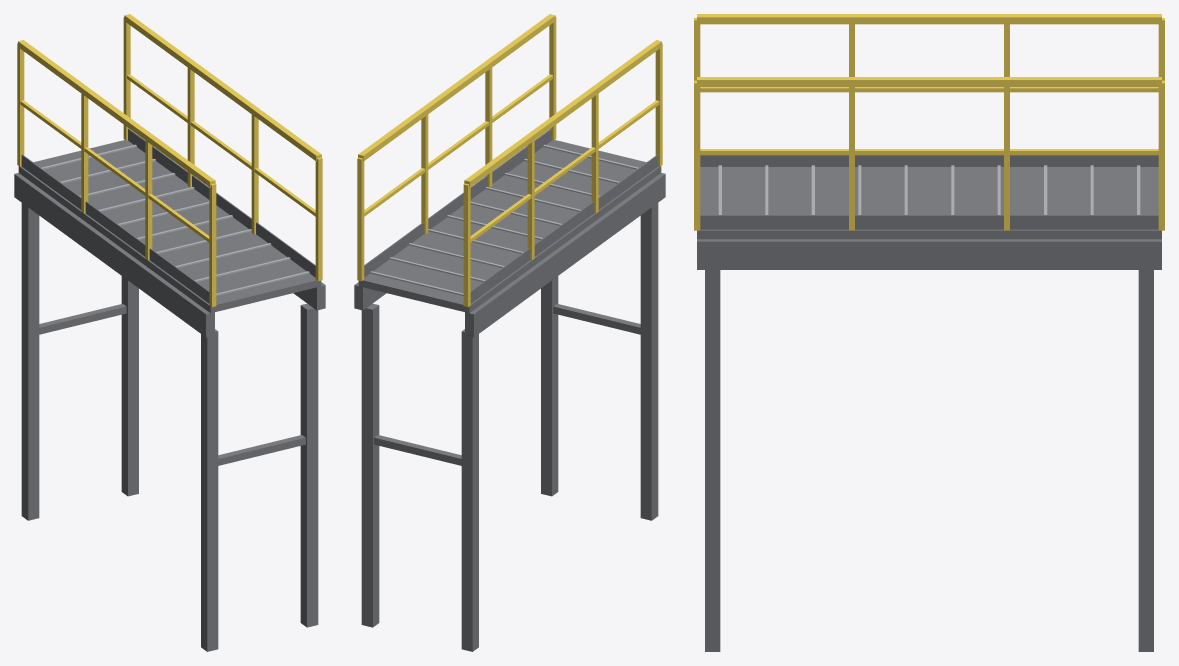
The model's file is catwalk_module.glb.
3 views of the same model, side by side, from view 1: azimuth 30°, elevation 25°; view 2: azimuth 150°, elevation 25°; view 3: azimuth 270°, elevation 25° (orthographic). The views are drawn at different scales.
Visible parts, largest first — view 1: body; view 2: body; view 3: body.
Part boxes in pixels (x1,y1,x2,y2): body: (14, 14, 325, 651); body: (354, 14, 665, 651); body: (694, 14, 1164, 651).
Size of the model in its own units: 1.08 by 4.07 by 3.04.
